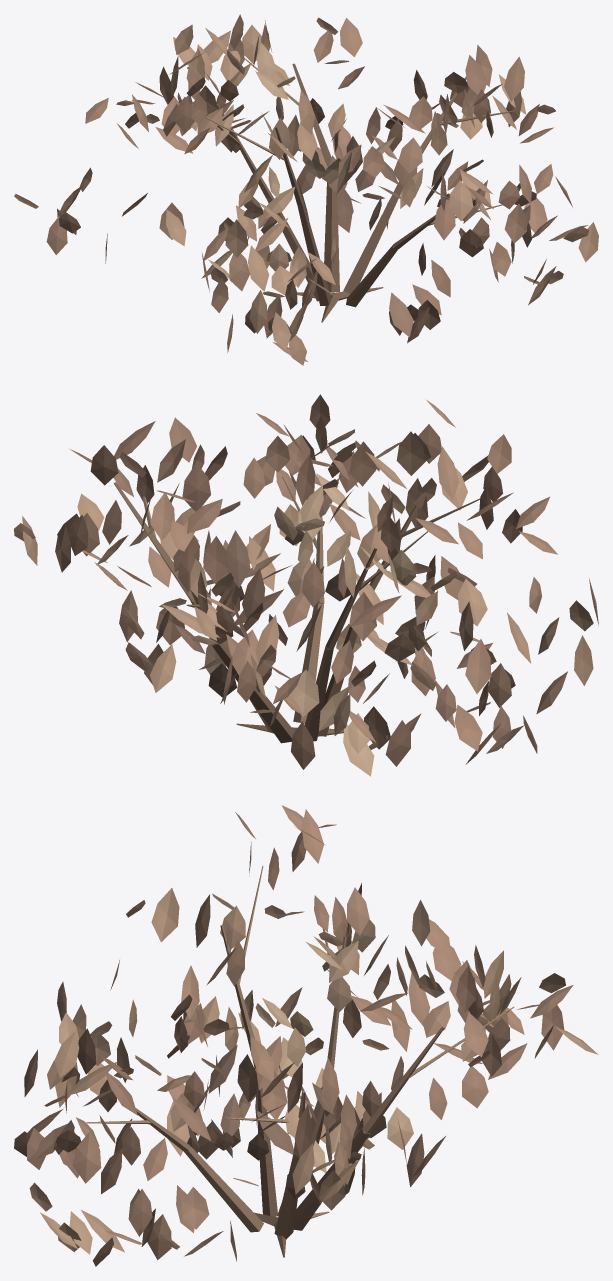
Rendered from bush_3d_01_copper.glb.
3 renders of one model, top to bottom at view 1: azimuth 30°, elevation 25°; view 2: azimuth 150°, elevation 25°; view 3: azimuth 270°, elevation 25°, orthographic. The views are drawn at different scales.
Parts seen in each view (by area): view 1: bush_3d_01_copper_foliage, bush_3d_01_copper_wood; view 2: bush_3d_01_copper_foliage, bush_3d_01_copper_wood; view 3: bush_3d_01_copper_foliage, bush_3d_01_copper_wood.
Boxes of the visible parts, x1,y1,x2,y2 form: bush_3d_01_copper_foliage: (14, 14, 598, 365); bush_3d_01_copper_wood: (205, 58, 515, 322); bush_3d_01_copper_foliage: (14, 394, 598, 776); bush_3d_01_copper_wood: (113, 475, 480, 743); bush_3d_01_copper_foliage: (14, 805, 598, 1266); bush_3d_01_copper_wood: (86, 866, 514, 1257).
Size of the model in its own units: 2.2 by 1.25 by 2.
